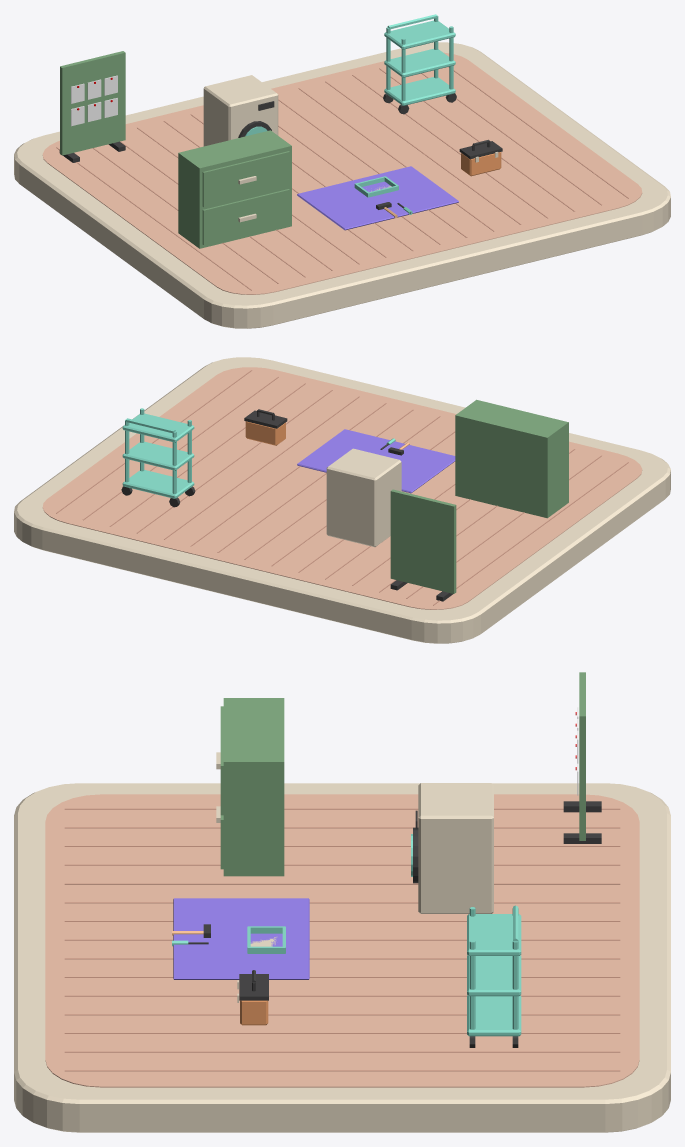
The model's file is room.fbx.
The picture shows the model from 3 angles, top to bottom: view 1: azimuth 30°, elevation 25°; view 2: azimuth 150°, elevation 25°; view 3: azimuth 270°, elevation 25°; orthographic projection. The views are drawn at different scales.
Visible parts, largest first — view 1: COM-02 Floor Surface, COM-01 Rounded Base Direct, Cabinet, Rug, Panel, Washing machine, Tray.002, Tray, Tray.001, Box; view 2: COM-02 Floor Surface, COM-01 Rounded Base Direct, Cabinet, Panel, Washing machine, Rug, Tray, Tray.001, Tray.002, Box, Lid; view 3: COM-02 Floor Surface, COM-01 Rounded Base Direct, Cabinet, Rug, Washing machine, Tray.002, Tray, Tray.001, Panel, Plank seam.013, Plank seam.014, Plank seam.004 (+10 smaller).
Part boxes in pixels (left/top/right/bottom): COM-02 Floor Surface: left=42, top=52, right=642, bottom=294; COM-01 Rounded Base Direct: left=14, top=42, right=670, bottom=328; Cabinet: left=178, top=130, right=291, bottom=248; Rug: left=297, top=166, right=458, bottom=230; Panel: left=60, top=51, right=125, bottom=155; Washing machine: left=203, top=75, right=278, bottom=146; Tray.002: left=384, top=20, right=455, bottom=49; Tray: left=384, top=77, right=455, bottom=105; Tray.001: left=384, top=48, right=455, bottom=77; Box: left=461, top=152, right=501, bottom=176; COM-02 Floor Surface: left=42, top=367, right=642, bottom=609; COM-01 Rounded Base Direct: left=14, top=357, right=670, bottom=643; Cabinet: left=455, top=399, right=568, bottom=518; Panel: left=390, top=489, right=456, bottom=593; Washing machine: left=326, top=448, right=401, bottom=547; Rug: left=297, top=429, right=455, bottom=493; Tray: left=122, top=470, right=194, bottom=498; Tray.001: left=122, top=441, right=194, bottom=470; Tray.002: left=122, top=413, right=194, bottom=442; Box: left=245, top=421, right=285, bottom=445; Lid: left=244, top=410, right=287, bottom=428; COM-02 Floor Surface: left=45, top=794, right=639, bottom=1087; COM-01 Rounded Base Direct: left=14, top=783, right=670, bottom=1132; Cabinet: left=216, top=698, right=284, bottom=876; Rug: left=173, top=898, right=309, bottom=979; Washing machine: left=418, top=783, right=493, bottom=913; Tray.002: left=467, top=914, right=521, bottom=955; Tray: left=467, top=995, right=521, bottom=1036; Tray.001: left=467, top=955, right=521, bottom=996; Panel: left=579, top=672, right=585, bottom=840; Plank seam.013: left=64, top=1051, right=620, bottom=1052; Plank seam.014: left=64, top=1070, right=620, bottom=1071; Plank seam.004: left=64, top=883, right=620, bottom=884.
Size of the model in its own units: 600 by 144 by 520.
